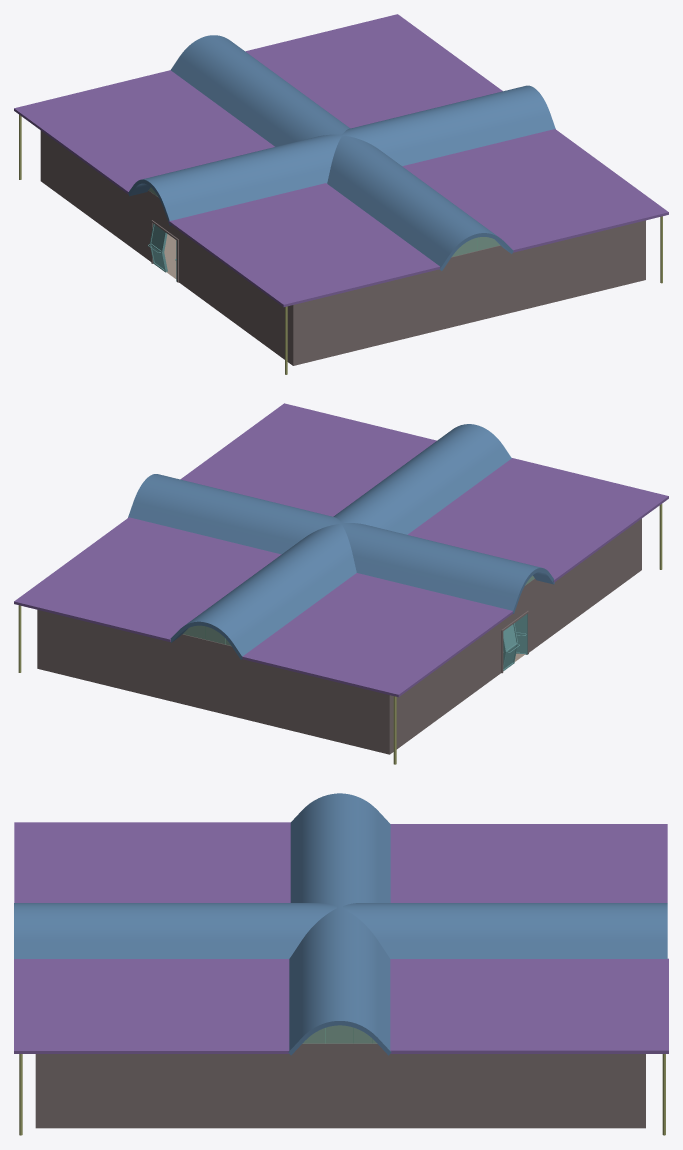
File: arcade 3rd selection.fbx
3 views of the same model, one above another, from view 1: azimuth 30°, elevation 25°; view 2: azimuth 150°, elevation 25°; view 3: azimuth 270°, elevation 25° (orthographic). The views are drawn at different scales.
Parts seen in each view (by area): view 1: house, Box20, Box_745EC4B9, Box17, Box16, Box_745EC4B8, Box_745EC4B7, pCube4; view 2: house, Box20, Box_745EC4B8, Box17, Box_745EC4B7, Box_745EC4B9, Box16, pCube4; view 3: house, Box20, Box_745EC4B7, Box16, Box_745EC4B9, Box_745EC4B8, Box17, pCube5.
Boxes of the visible parts, x1,y1,x2,y2 form: house: [40, 130, 645, 365]; Box20: [171, 35, 513, 270]; Box_745EC4B9: [168, 183, 440, 307]; Box17: [128, 85, 555, 225]; Box16: [402, 129, 668, 252]; Box_745EC4B8: [14, 70, 274, 194]; Box_745EC4B7: [245, 14, 502, 128]; pCube4: [149, 223, 167, 272]; house: [37, 518, 641, 754]; Box20: [170, 424, 511, 659]; Box_745EC4B8: [242, 573, 513, 697]; Box17: [128, 474, 554, 613]; Box_745EC4B7: [14, 517, 281, 641]; Box_745EC4B9: [407, 458, 668, 582]; Box16: [180, 403, 436, 516]; pCube4: [503, 623, 517, 670]; house: [35, 1043, 645, 1128]; Box20: [14, 903, 667, 958]; Box_745EC4B7: [390, 958, 668, 1053]; Box16: [14, 959, 289, 1053]; Box_745EC4B9: [14, 822, 290, 902]; Box_745EC4B8: [390, 824, 667, 902]; Box17: [288, 793, 391, 1055]; pCube5: [303, 1025, 376, 1043].
Size of the model in its own units: 3238 by 776 by 3938.
